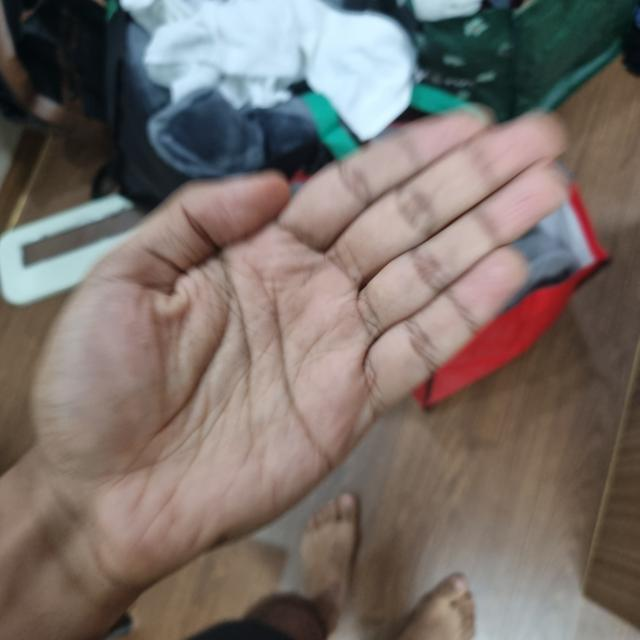Paper: (38, 107, 581, 566)
